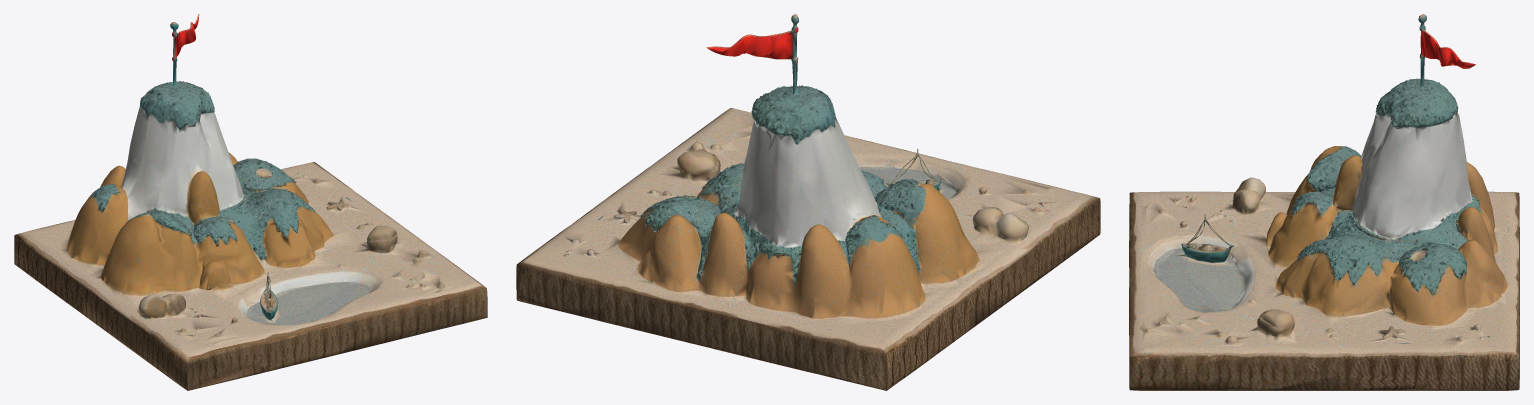
The model's file is sling_seaStackIsland.glb.
3 views of the same model, side by side, from view 1: azimuth 30°, elevation 25°; view 2: azimuth 150°, elevation 25°; view 3: azimuth 270°, elevation 25° (orthographic). The views are drawn at different scales.
Bounding box in the file's own units: 1.9 × 1.51 × 1.9.
Materials: 1 (1 with a texture image).
